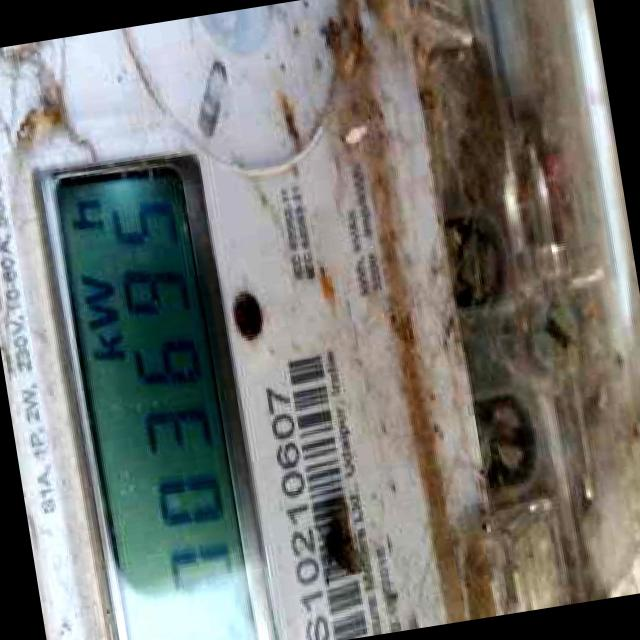LCD: (29, 135, 281, 640)
